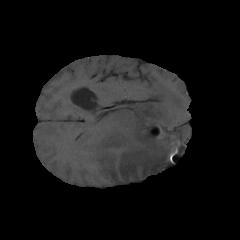glioma: (84, 83, 190, 183)
